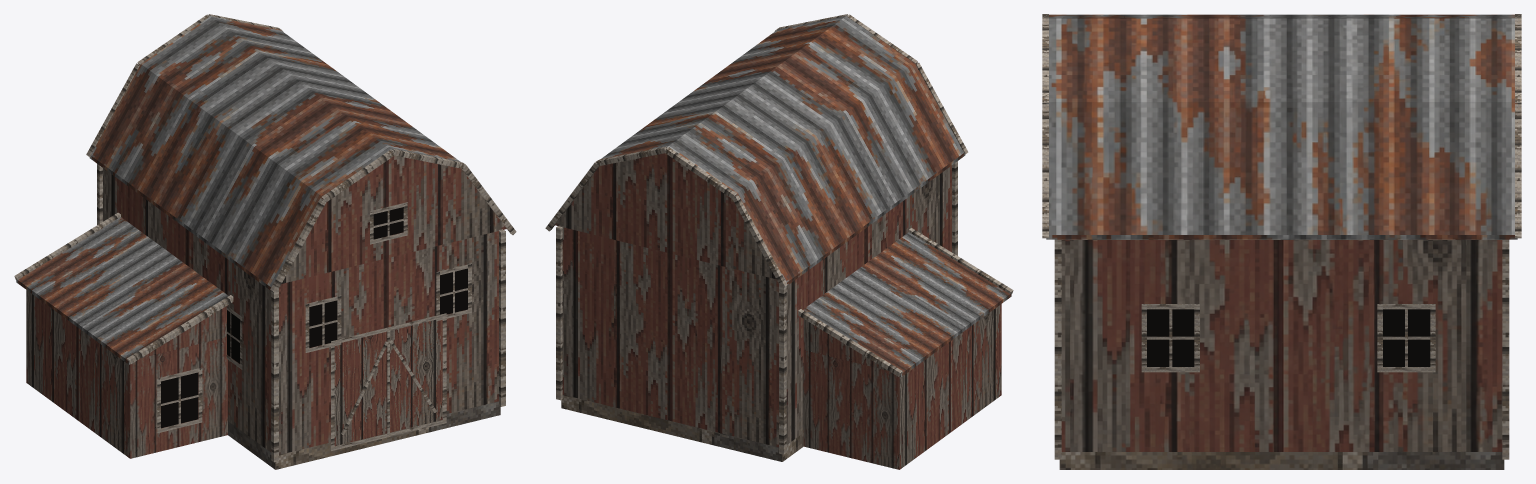
The model's file is Fienile_01_Annesso.obj.
The picture shows the model from 3 angles, left to right: view 1: azimuth 30°, elevation 25°; view 2: azimuth 150°, elevation 25°; view 3: azimuth 270°, elevation 25°; orthographic projection. The views are drawn at different scales.
Parts seen in each view (by area): view 1: Fienile_01_Annesso; view 2: Fienile_01_Annesso; view 3: Fienile_01_Annesso.
Boxes of the visible parts, box(x1,y1,x2,y2) form: Fienile_01_Annesso: box(14, 14, 516, 469); Fienile_01_Annesso: box(545, 14, 1013, 469); Fienile_01_Annesso: box(1042, 14, 1521, 469).
Size of the model in its own units: 9.02 by 7.56 by 8.62.
